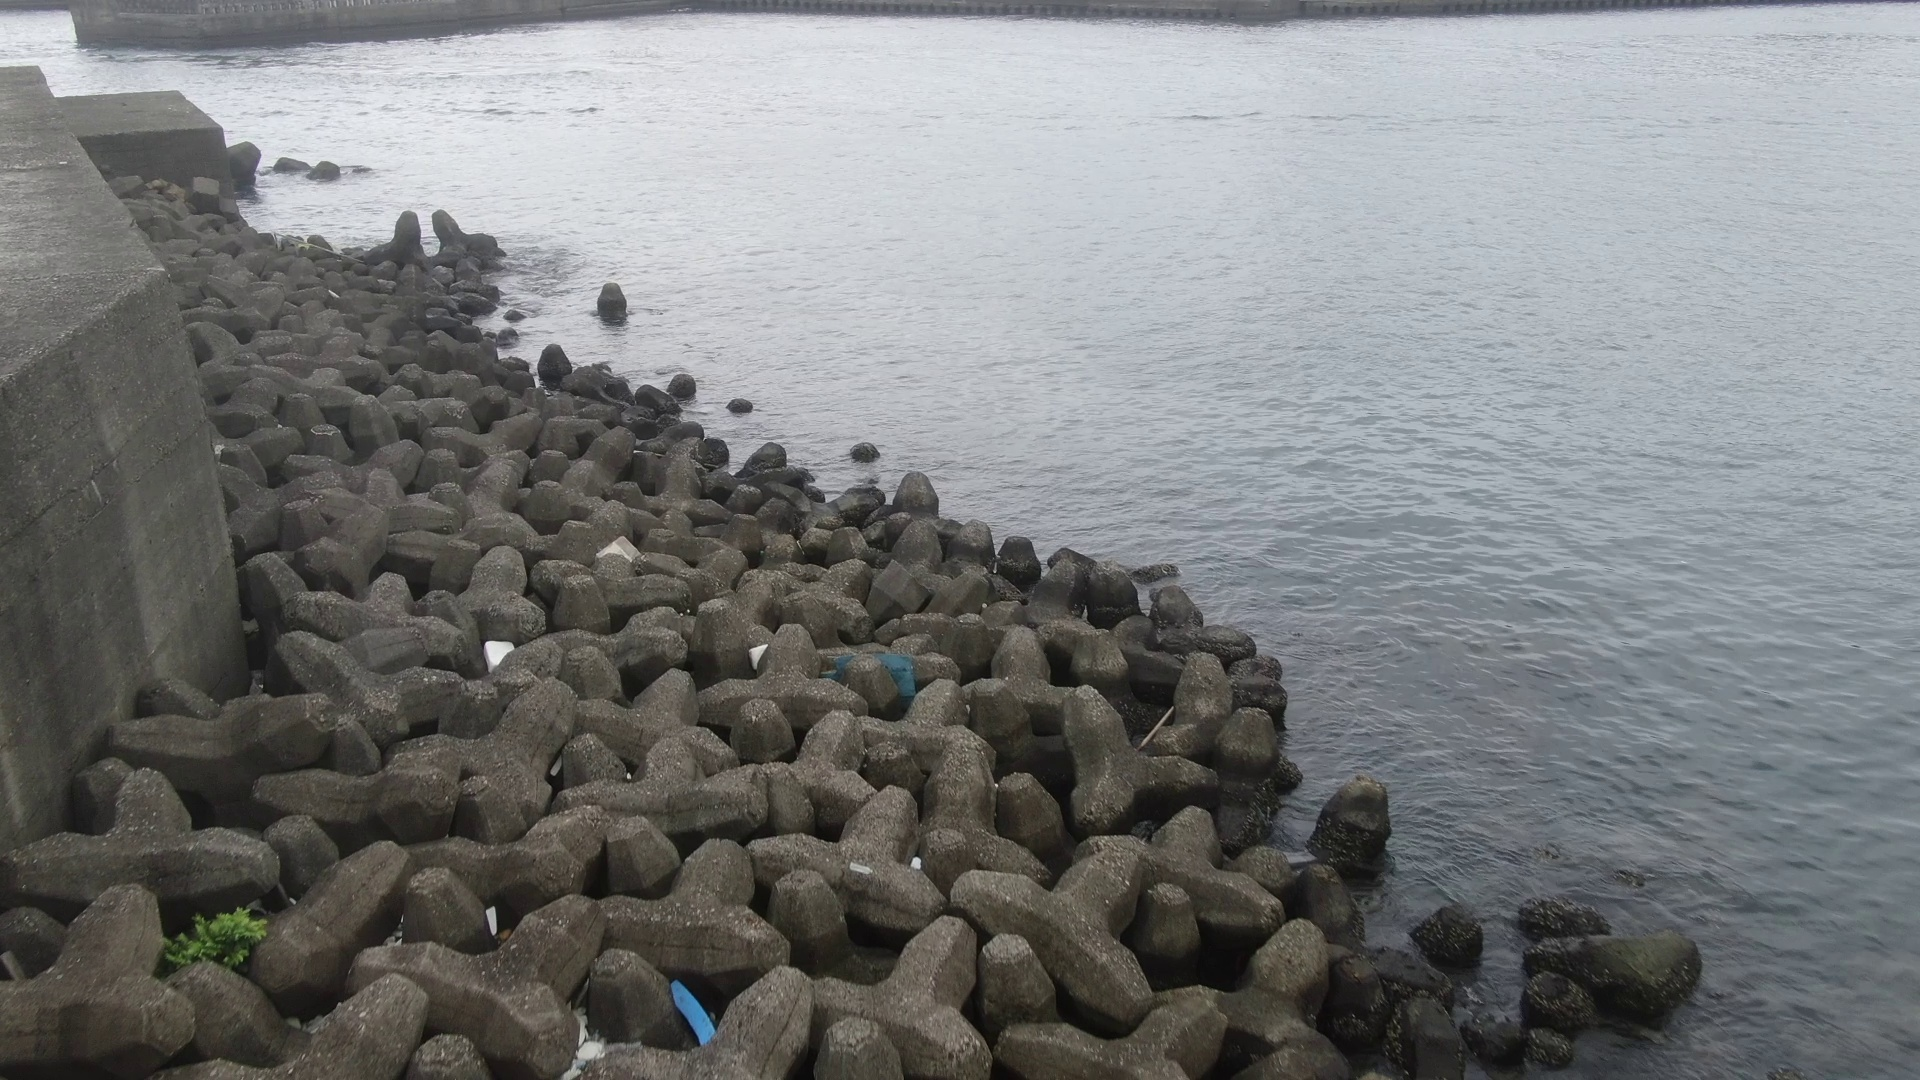garbage: (662, 969, 732, 1052), (825, 647, 923, 698), (585, 526, 647, 570), (483, 632, 525, 679), (748, 632, 775, 679)
